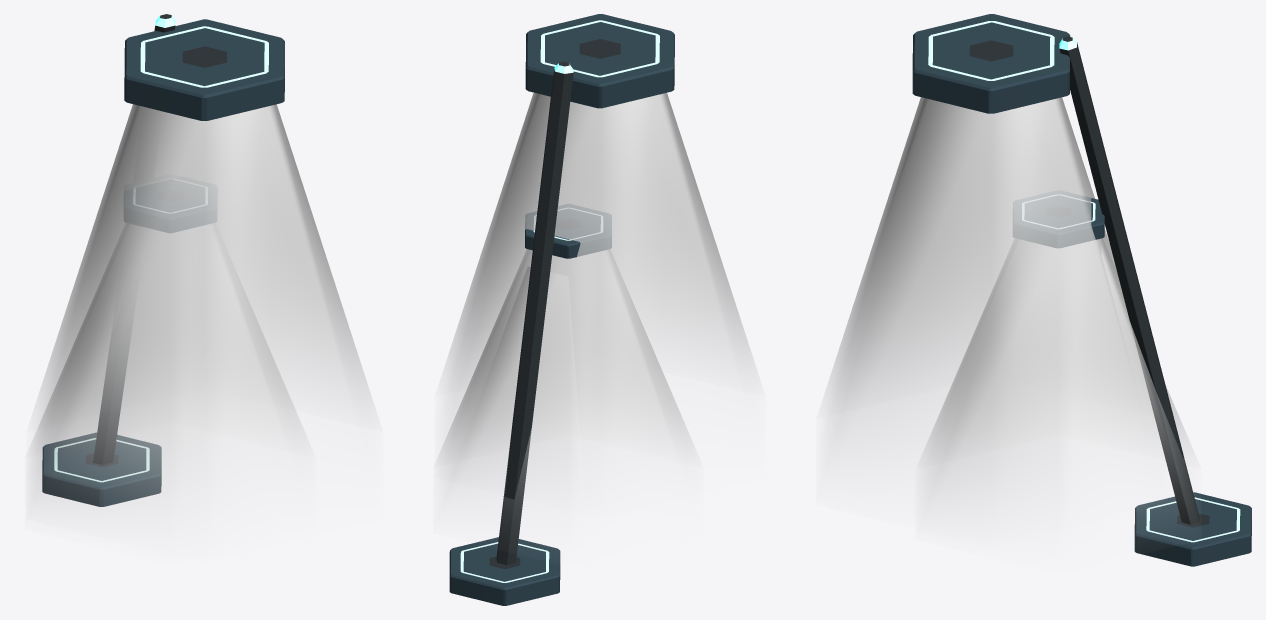
Rendered from pm-aero-lampost-01.glb.
3 renders of one model, left to right at view 1: azimuth 30°, elevation 25°; view 2: azimuth 150°, elevation 25°; view 3: azimuth 270°, elevation 25°, orthographic. The views are drawn at different scales.
Parts seen in each view (by area): view 1: Ray_light_01, Aero_Lampost_01; view 2: Ray_light_01, Aero_Lampost_01; view 3: Ray_light_01, Aero_Lampost_01.
Part boxes in pixels (x1,y1,x2,y2): Ray_light_01: (29,104,374,534); Aero_Lampost_01: (42,14,284,506); Ray_light_01: (438,92,757,518); Aero_Lampost_01: (449,14,674,605); Ray_light_01: (824,97,1193,531); Aero_Lampost_01: (912,14,1251,566).
Bounding box in the file's own units: 6.32 × 8.21 × 6.56.
4 materials, 2 textured.
